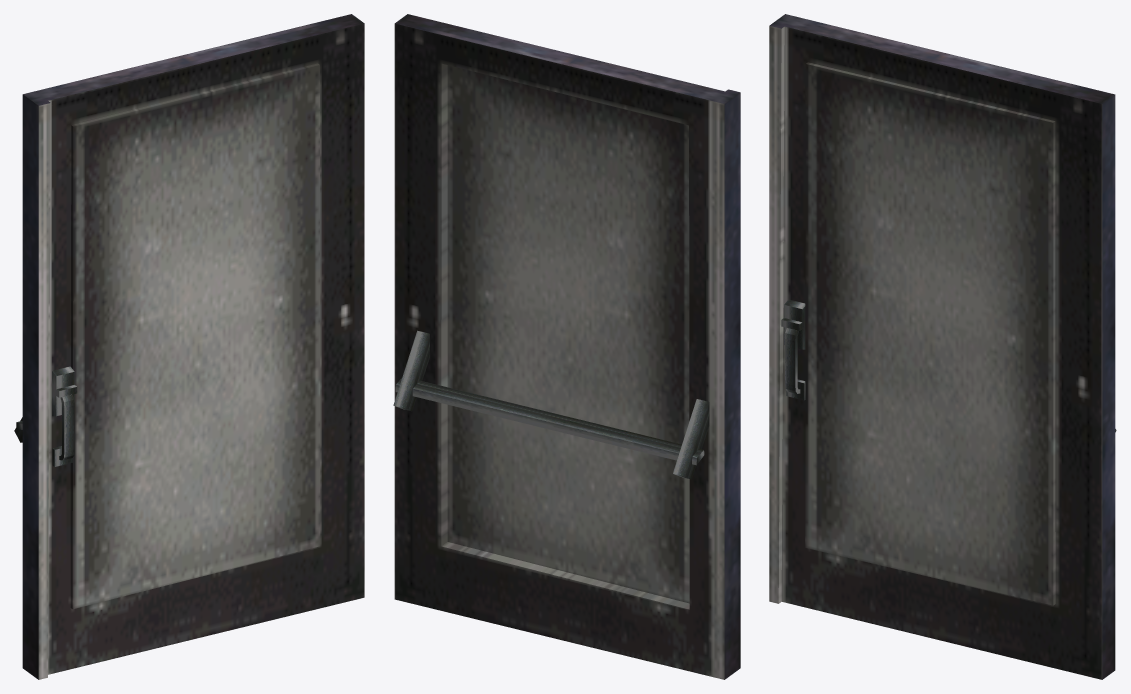
Rendered from gen_doorext05.obj.
The picture shows the model from 3 angles, left to right: view 1: azimuth 30°, elevation 25°; view 2: azimuth 150°, elevation 25°; view 3: azimuth 330°, elevation 25°; orthographic projection.
Visible parts, largest first — view 1: Gen_doorEXT05; view 2: Gen_doorEXT05; view 3: Gen_doorEXT05.
Boxes of the visible parts, x1=… form: Gen_doorEXT05: x1=14, y1=14, x2=364, y2=679; Gen_doorEXT05: x1=393, y1=14, x2=740, y2=679; Gen_doorEXT05: x1=769, y1=14, x2=1116, y2=679.
Bounding box in the file's own units: 1.5 × 2.5 × 0.3537.
